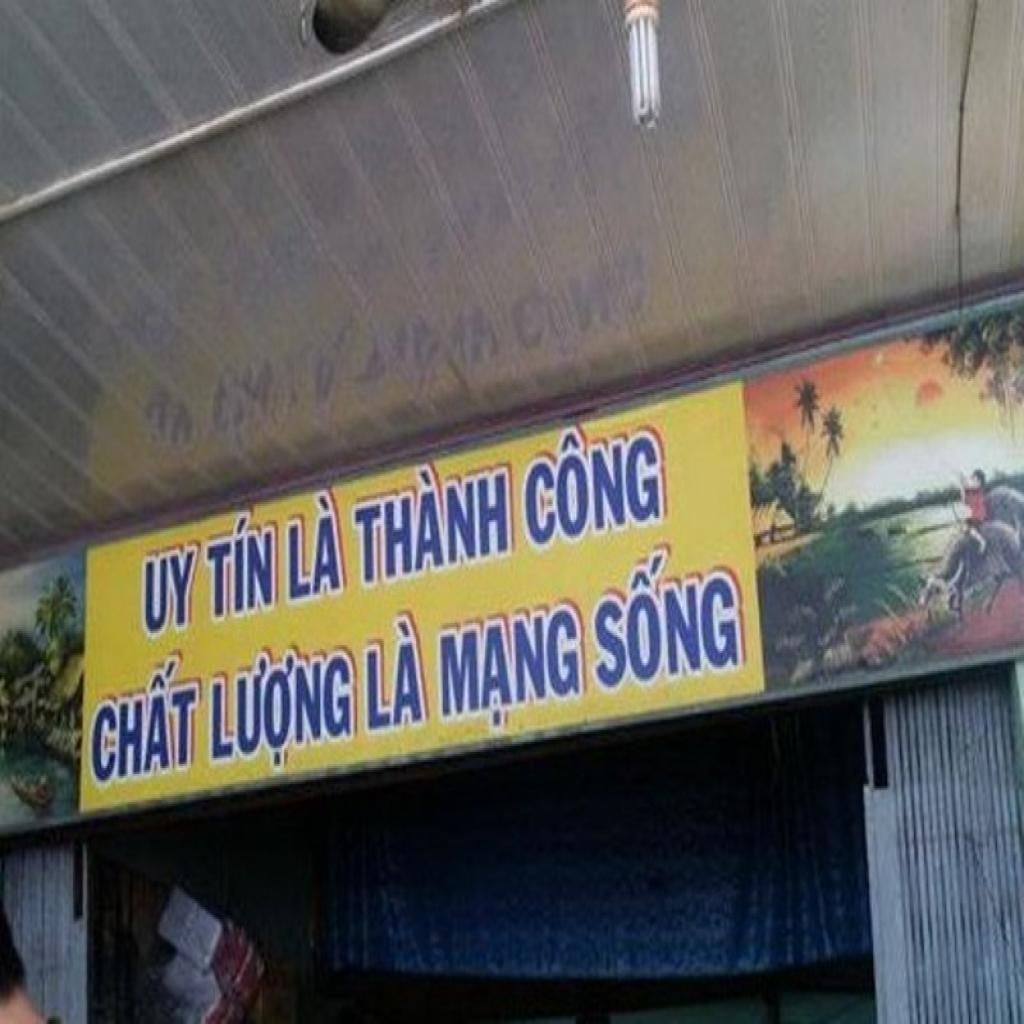text: (590, 538, 741, 696), (353, 450, 512, 590), (210, 633, 353, 782), (438, 603, 584, 742), (521, 412, 664, 552), (206, 508, 277, 623), (365, 609, 426, 736), (287, 488, 344, 607), (143, 542, 200, 643)
